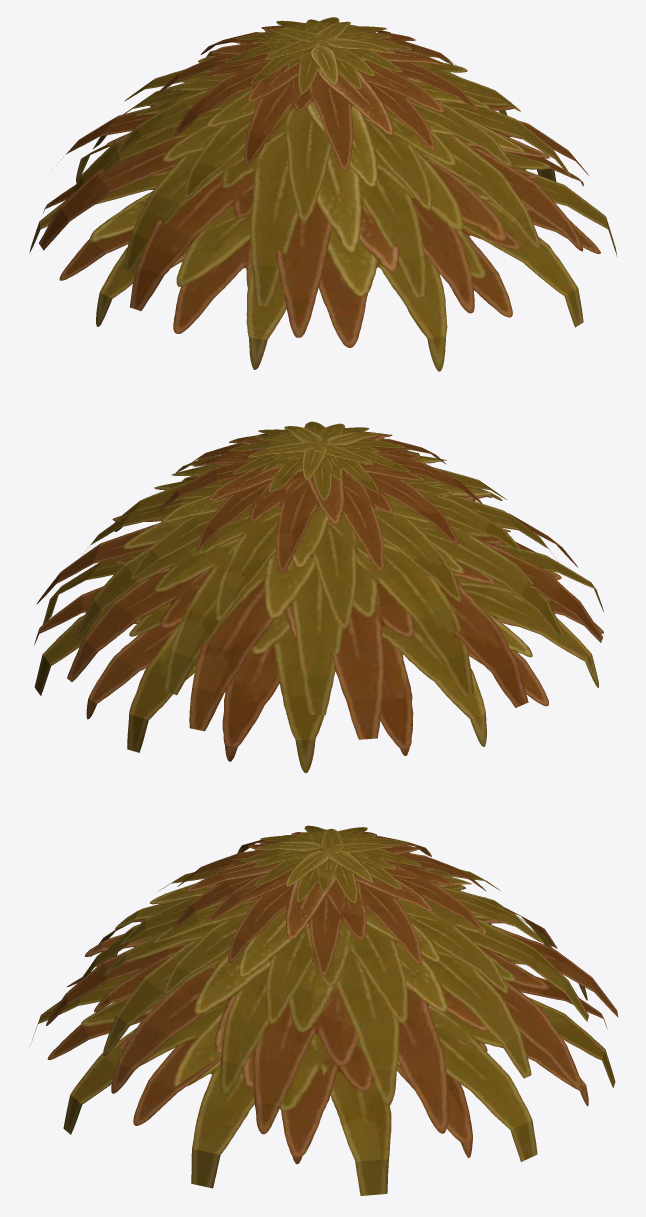
Rendered from bush09.glb.
3 renders of one model, top to bottom at view 1: azimuth 30°, elevation 25°; view 2: azimuth 150°, elevation 25°; view 3: azimuth 270°, elevation 25°, orthographic.
Visible parts, largest first — view 1: Bush09; view 2: Bush09; view 3: Bush09.
Part boxes in pixels (box(x1,y1,x2,y2)): Bush09: box(29, 17, 617, 371); Bush09: box(34, 421, 603, 773); Bush09: box(30, 825, 618, 1195).
Bounding box in the file's own units: 1.95 × 0.7856 × 1.96.
Materials: 1 (1 with a texture image).
